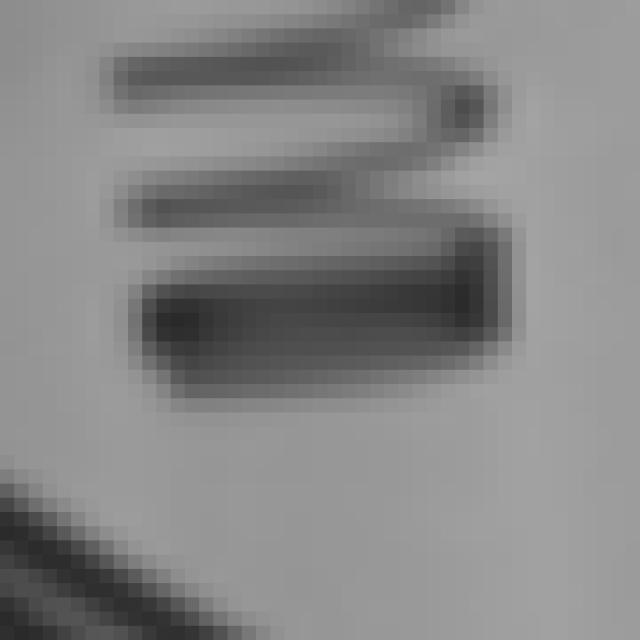GUN: (9, 538, 157, 629)
